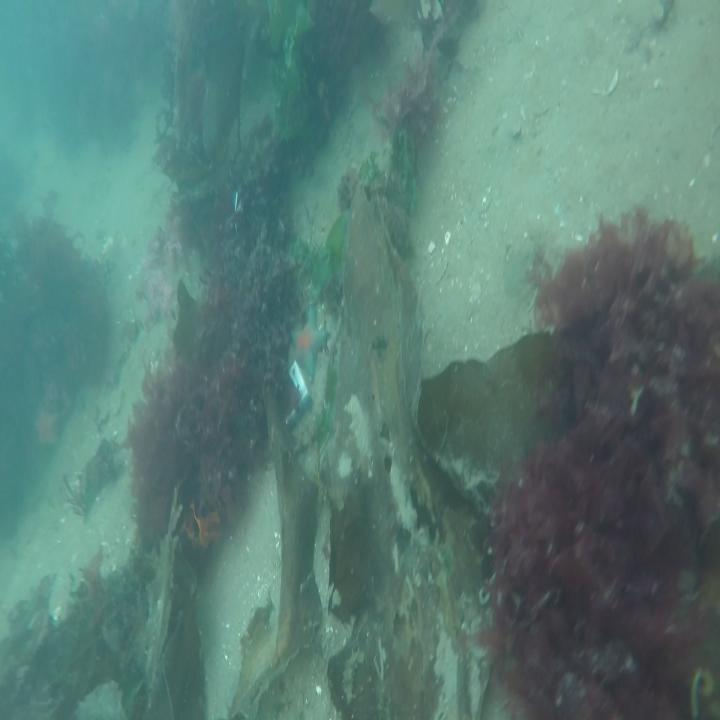starfish: (285, 304, 327, 381)
